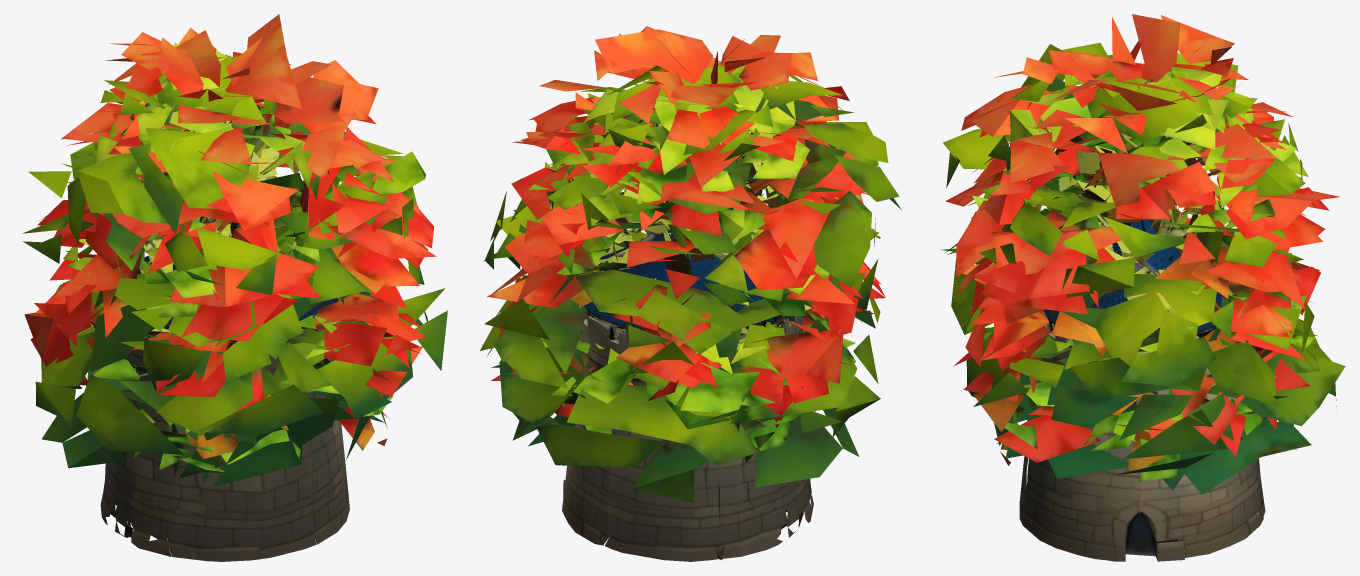
Rendered from dunya-ZW7S28DI.glb.
3 views of the same model, side by side, from view 1: azimuth 30°, elevation 25°; view 2: azimuth 150°, elevation 25°; view 3: azimuth 270°, elevation 25° (orthographic).
Parts seen in each view (by area): view 1: NormalTree_aiagac1, MapleTree_aiakcaagac, LargeTower, NormalTree_aiagac2, BirchTree_aihus1; view 2: NormalTree_aiagac1, MapleTree_aiakcaagac, NormalTree_aiagac2, LargeTower, BirchTree_aihus1, WatchTowerWRoof; view 3: MapleTree_aiakcaagac, NormalTree_aiagac1, LargeTower, NormalTree_aiagac2, BirchTree_aihus1.
Part boxes in pixels (<box>): NormalTree_aiagac1: <box>23,55,447,486</box>; MapleTree_aiakcaagac: <box>24,14,436,459</box>; LargeTower: <box>100,218,349,561</box>; NormalTree_aiagac2: <box>51,42,393,472</box>; BirchTree_aihus1: <box>140,114,296,337</box>; NormalTree_aiagac1: <box>480,65,901,502</box>; MapleTree_aiakcaagac: <box>482,26,885,427</box>; NormalTree_aiagac2: <box>528,57,862,462</box>; LargeTower: <box>562,229,813,561</box>; BirchTree_aihus1: <box>595,123,811,333</box>; WatchTowerWRoof: <box>589,232,800,559</box>; MapleTree_aiakcaagac: <box>945,14,1339,476</box>; NormalTree_aiagac1: <box>940,42,1345,554</box>; LargeTower: <box>1019,219,1265,561</box>; NormalTree_aiagac2: <box>966,69,1314,481</box>; BirchTree_aihus1: <box>1059,77,1199,315</box>.
Bounding box in the file's own units: 5.84 × 6.73 × 5.26.
Materials: 35 (35 with a texture image).
